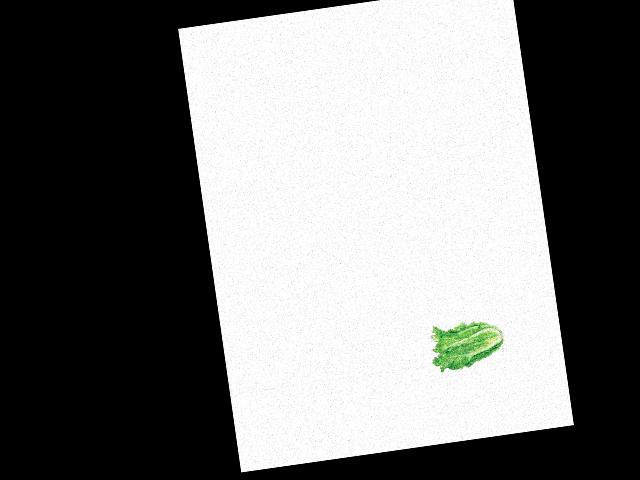lettuce: (427, 315, 506, 373)
